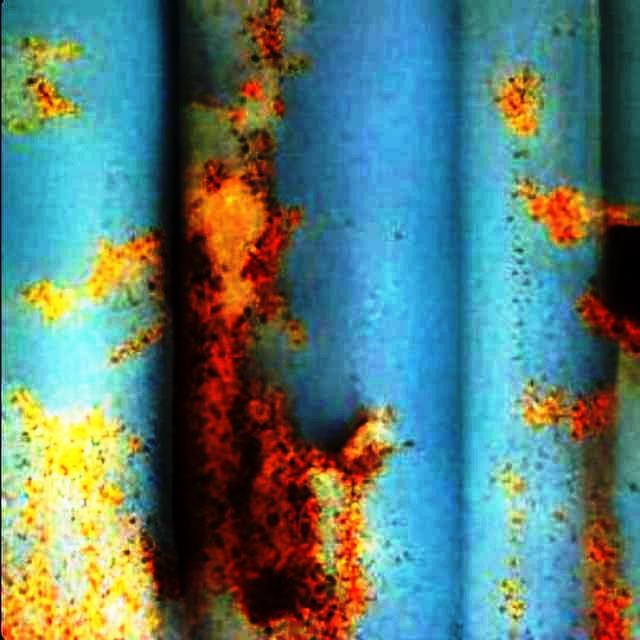Corrosion: (172, 0, 389, 640), (586, 516, 630, 640), (524, 384, 614, 441), (581, 292, 640, 352), (532, 188, 588, 244), (497, 70, 540, 133)
